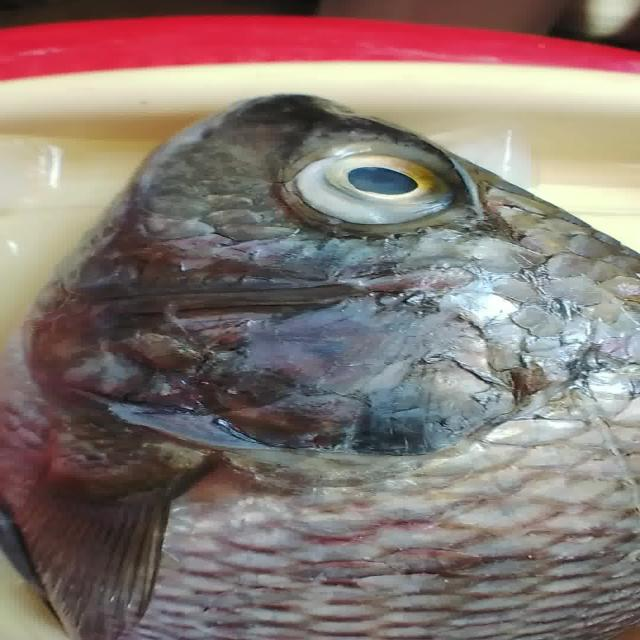Fresh: (302, 139, 479, 237)
